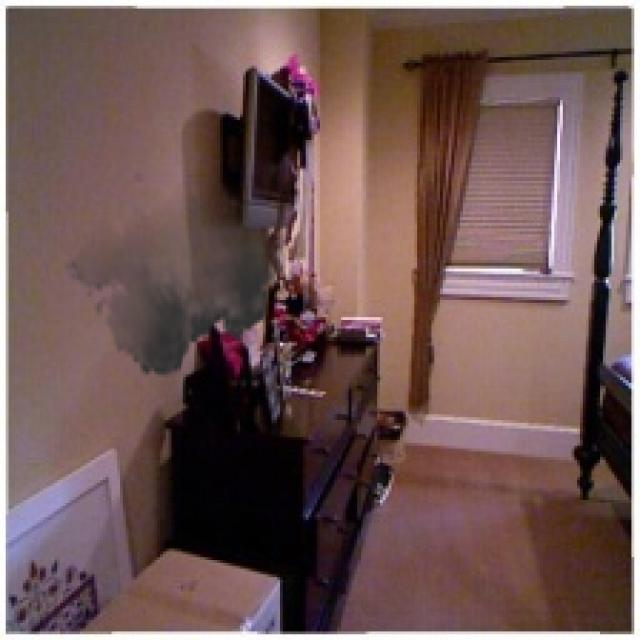smoke: (63, 160, 288, 386)
